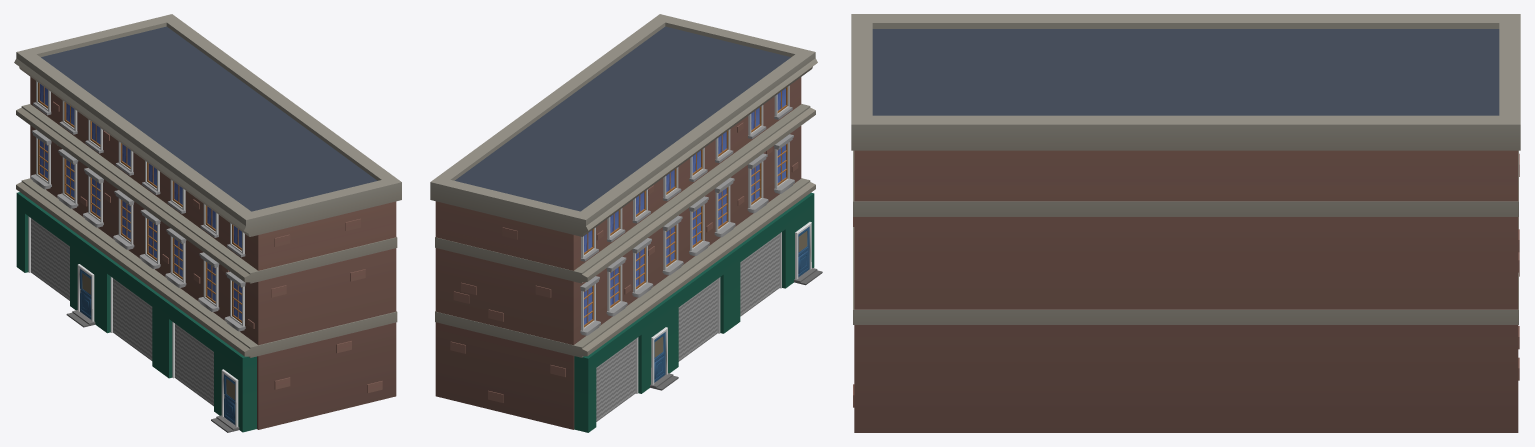
File: Building_20_2_D.glb
The picture shows the model from 3 angles, left to right: view 1: azimuth 30°, elevation 25°; view 2: azimuth 150°, elevation 25°; view 3: azimuth 270°, elevation 25°; orthographic projection. The views are drawn at different scales.
Visible parts, largest first — view 1: Building_20_2_D; view 2: Building_20_2_D; view 3: Building_20_2_D.
Boxes of the visible parts, bbox=[...] form: Building_20_2_D: bbox=[14, 14, 401, 432]; Building_20_2_D: bbox=[430, 14, 822, 432]; Building_20_2_D: bbox=[851, 14, 1520, 432].
Size of the model in its own units: 7.74 by 9.38 by 18.27.
4 materials, 4 textured.
